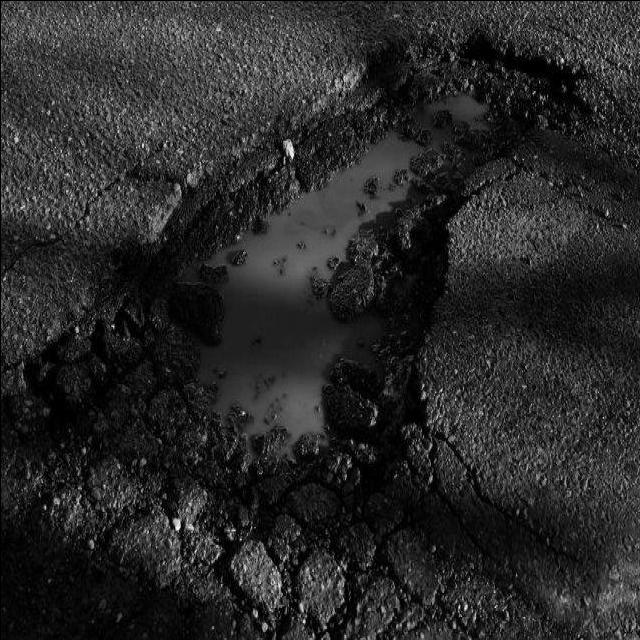jalan retak: (14, 462, 395, 640), (349, 437, 596, 640), (0, 130, 180, 312)
lubang: (0, 31, 576, 628), (339, 3, 600, 191)
